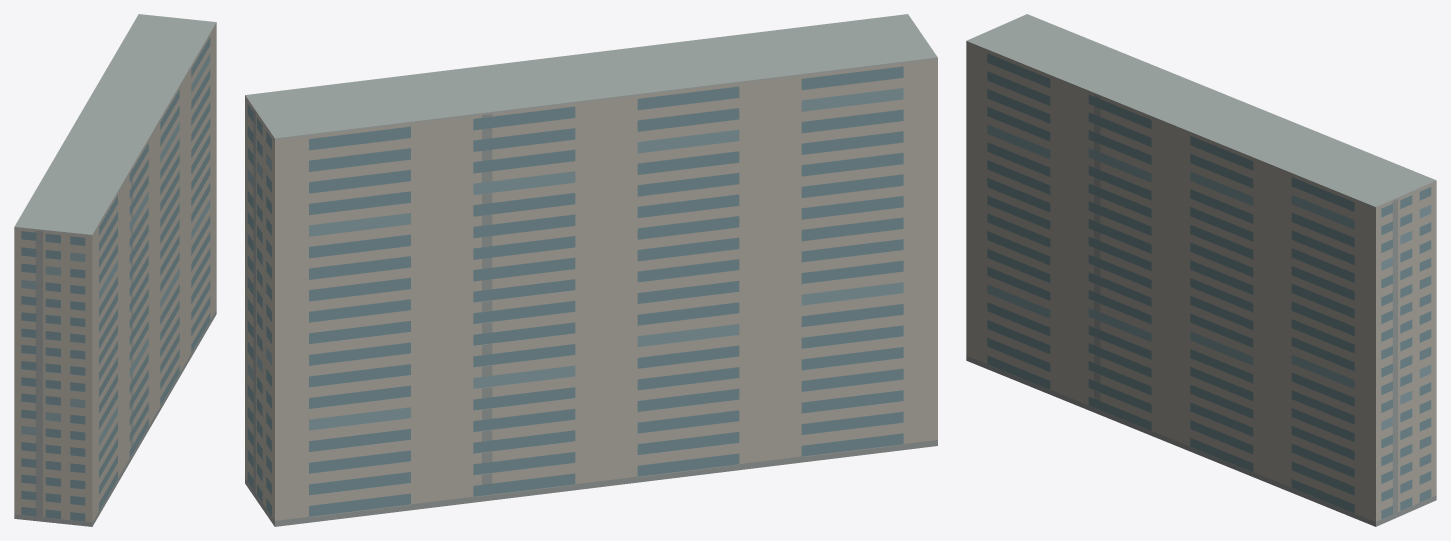
Rendered from residential-88502474-822e-4530-940f-6cf954f4f35f.glb.
3 renders of one model, left to right at view 1: azimuth 30°, elevation 25°; view 2: azimuth 150°, elevation 25°; view 3: azimuth 270°, elevation 25°, orthographic. The views are drawn at different scales.
Visible parts, largest first — view 1: residential-88502474-822e-4530-940f-6cf954f4f35f.tmp; view 2: residential-88502474-822e-4530-940f-6cf954f4f35f.tmp; view 3: residential-88502474-822e-4530-940f-6cf954f4f35f.tmp.
Part boxes in pixels (bbox=[...]): residential-88502474-822e-4530-940f-6cf954f4f35f.tmp: bbox=[14, 14, 216, 526]; residential-88502474-822e-4530-940f-6cf954f4f35f.tmp: bbox=[245, 14, 937, 526]; residential-88502474-822e-4530-940f-6cf954f4f35f.tmp: bbox=[966, 14, 1436, 526].
Bounding box in the file's own units: 62.19 × 48 × 64.01.
